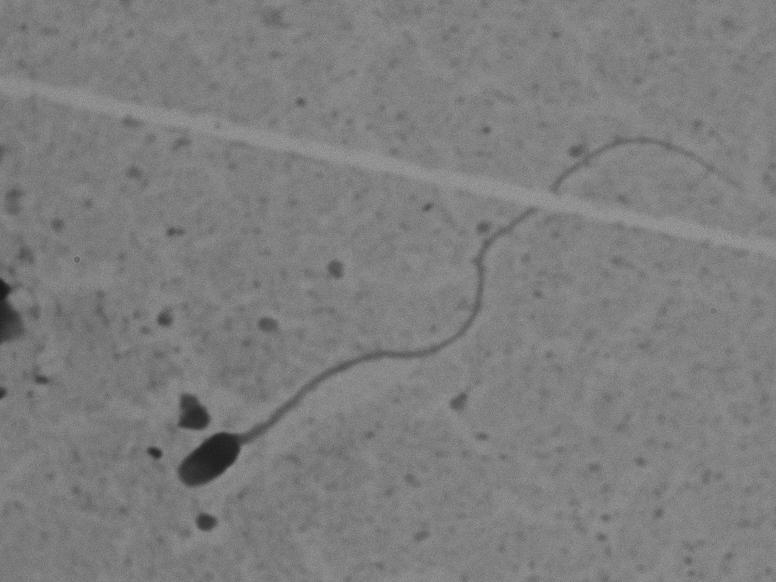Abnormal: (166, 127, 741, 530)
